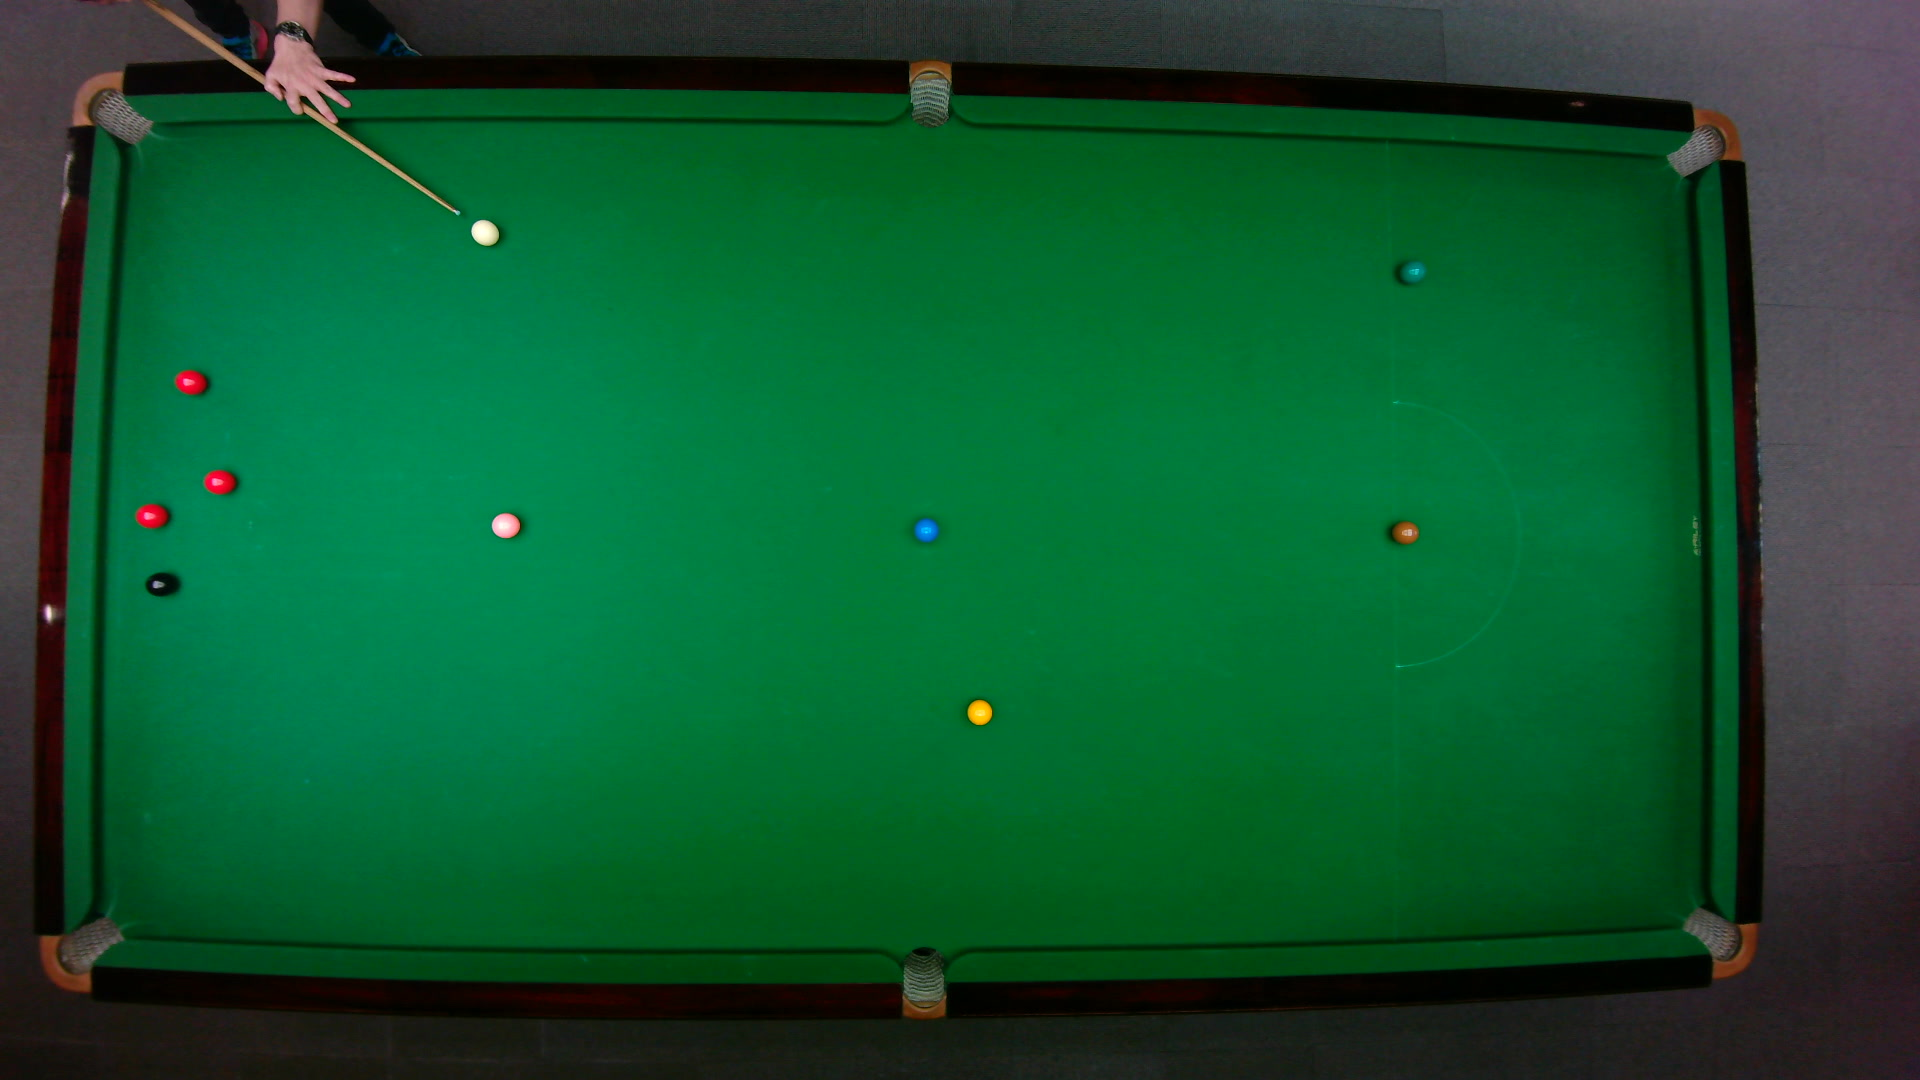bag: (37, 914, 125, 992), (69, 70, 153, 145), (1677, 905, 1756, 978), (1663, 107, 1741, 178), (901, 944, 944, 1021), (909, 57, 949, 128)
black: (142, 571, 175, 597)
blue: (913, 516, 938, 542)
brown: (1389, 520, 1418, 545)
cue: (142, 0, 462, 215)
green: (1396, 257, 1425, 284)
pink: (489, 509, 521, 539)
red: (171, 368, 207, 396), (200, 467, 236, 495), (133, 501, 169, 527)
white: (469, 218, 500, 247)
yellow: (964, 698, 993, 727)
zone: (1390, 400, 1520, 669)
